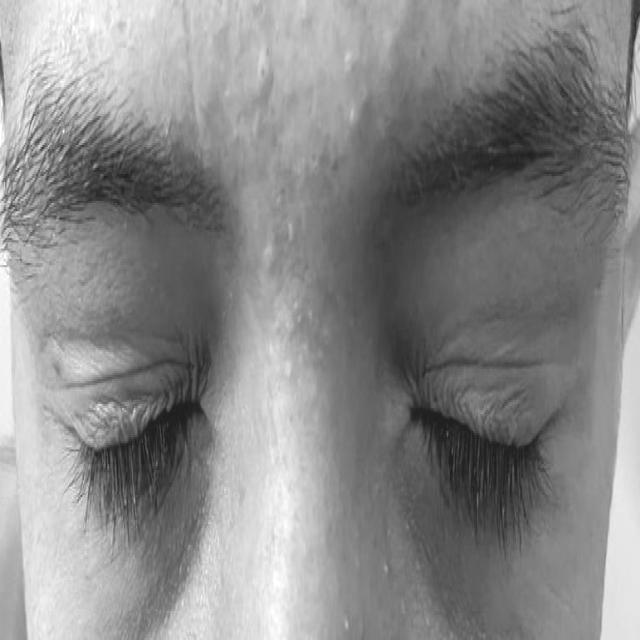real: (32, 206, 596, 572)
